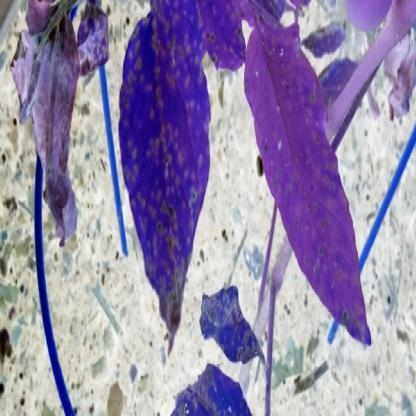Tomato Septoria leaf spot: (242, 13, 374, 354), (117, 12, 218, 370)
